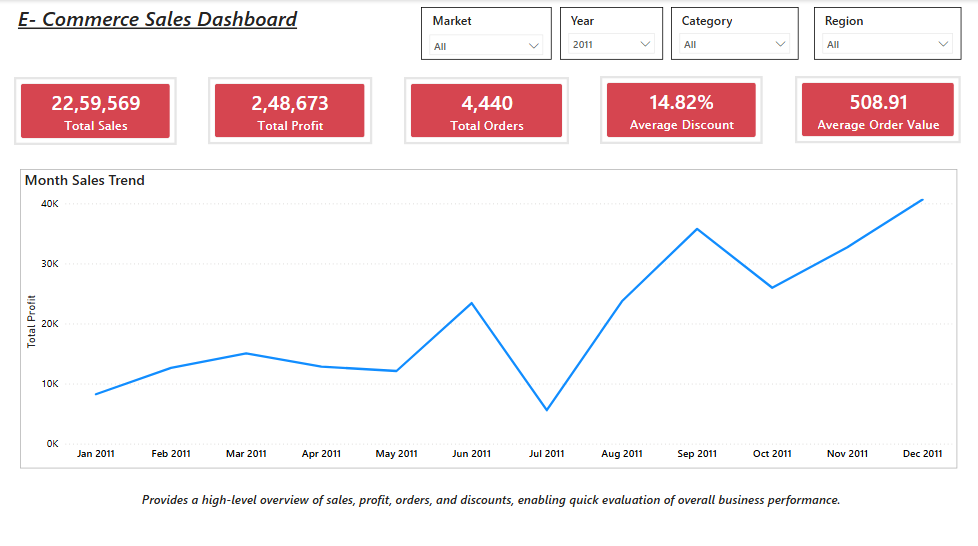

The dashboard page shown, as its layout file describes it:
{"tool":"powerbi","page":{"name":"Executive Overview","canvas":[1280,720],"ordinal":0},"visuals":[{"type":"cardVisual","fields":{"Data":["E-Commerce.Total_Sales"]},"box":[17.9,100.5,213.3,89.5],"z":0},{"type":"cardVisual","fields":{"Data":["E-Commerce.Total_Orders"]},"box":[528.5,100.5,216.1,88.1],"z":1000},{"type":"cardVisual","fields":{"Data":["E-Commerce.Average Discount"]},"box":[785.9,99.1,213.3,89.5],"z":2000},{"type":"cardVisual","fields":{"Data":["E-Commerce.Total_Profit"]},"box":[272.5,100.5,214.7,88.1],"z":3000},{"type":"lineChart","title":"Month Sales Trend","fields":{"Y":["E-Commerce.Total_Profit"],"Category":["DateTable.Month Name"]},"box":[25.9,221.8,1226.9,391.7],"z":4000},{"type":"cardVisual","fields":{"Data":["E-Commerce.Average_Order_Value"]},"box":[1040.5,99.1,217.5,88.1],"z":5000},{"type":"textbox","box":[17.9,0,506.5,49.5],"z":6000},{"type":"slicer","fields":{"Values":["E-Commerce.market"]},"box":[551.5,8.6,171.4,69.1],"z":7000},{"type":"slicer","fields":{"Values":["E-Commerce.year"]},"box":[733,8.6,135.4,69.1],"z":8000},{"type":"slicer","fields":{"Values":["E-Commerce.category"]},"box":[878.4,8.6,167,69.1],"z":9000},{"type":"slicer","fields":{"Values":["E-Commerce.region"]},"box":[1065.6,8.6,193,69.1],"z":10000},{"type":"textbox","box":[180,637.9,941.8,67.7],"z":11000}]}

Visuals, with their boxes in screenshot pixels (x1, y1, x2, y2), scaled from the page's 1280x720 canvas onto the 978x546 screenshot:
cardVisual - E-Commerce.Total_Sales: pyautogui.locateOnScreen(14, 76, 177, 144)
cardVisual - E-Commerce.Total_Orders: pyautogui.locateOnScreen(404, 76, 569, 143)
cardVisual - E-Commerce.Average Discount: pyautogui.locateOnScreen(600, 75, 763, 143)
cardVisual - E-Commerce.Total_Profit: pyautogui.locateOnScreen(208, 76, 372, 143)
"Month Sales Trend" lineChart: pyautogui.locateOnScreen(20, 168, 957, 465)
cardVisual - E-Commerce.Average_Order_Value: pyautogui.locateOnScreen(795, 75, 961, 142)
textbox: pyautogui.locateOnScreen(14, 0, 401, 38)
slicer - E-Commerce.market: pyautogui.locateOnScreen(421, 7, 552, 59)
slicer - E-Commerce.year: pyautogui.locateOnScreen(560, 7, 664, 59)
slicer - E-Commerce.category: pyautogui.locateOnScreen(671, 7, 799, 59)
slicer - E-Commerce.region: pyautogui.locateOnScreen(814, 7, 962, 59)
textbox: pyautogui.locateOnScreen(138, 484, 857, 535)
